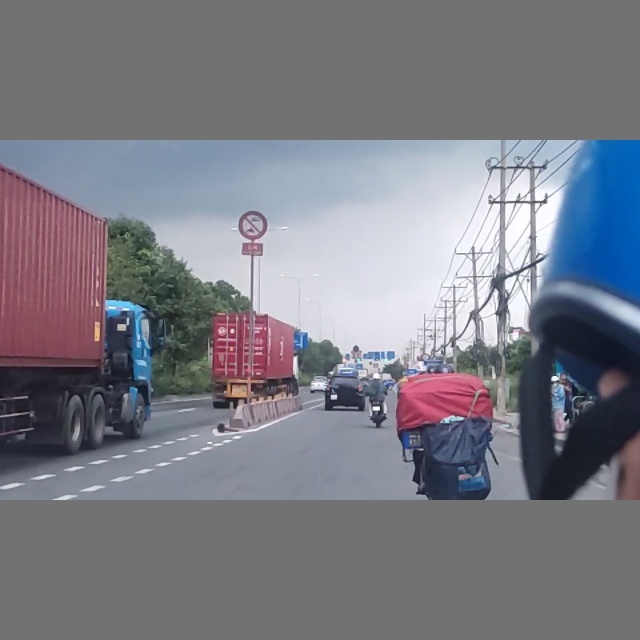P.111: (239, 211, 267, 241)
